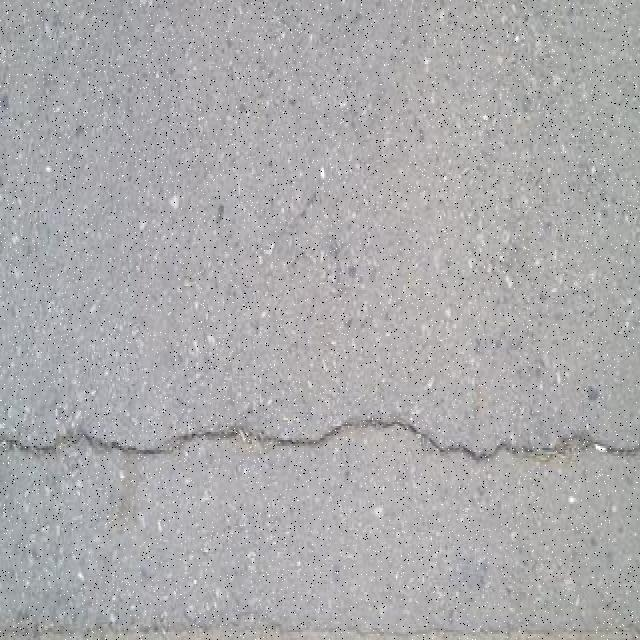minor crack: (23, 426, 181, 454)
moderate crack: (4, 623, 636, 640)
severe crack: (5, 424, 637, 496), (312, 410, 460, 443), (416, 429, 489, 455)
